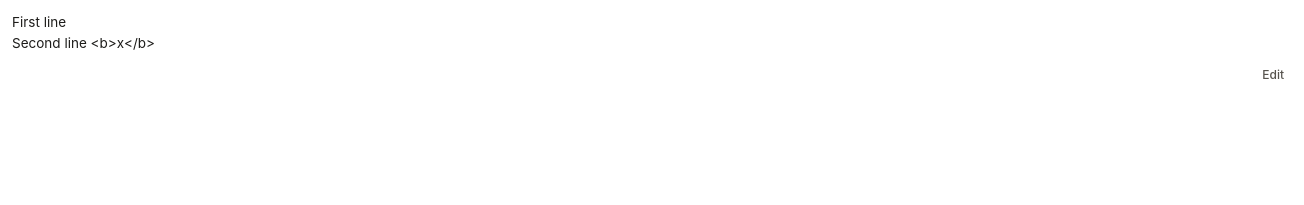
TextAreaEditor: edit mode › Edit opens the editor; Ctrl+Enter saves and focus returns to Edit
Click the button with aria-label "Edit Description" at coordinates (1273, 75), box 1254,62 -> 1292,88
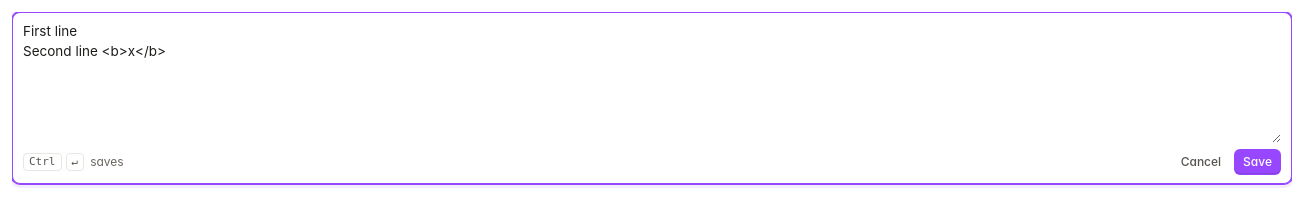
Replace the text in the text box named "Description" with "New text" at coordinates (652, 82), box 23,21 -> 1281,142
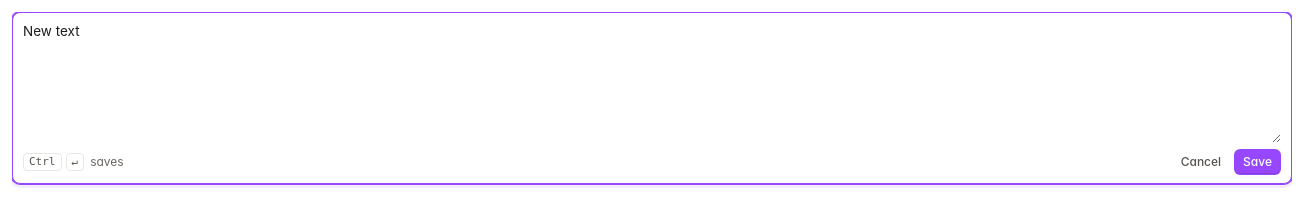
Press Enter in the text box named "Description", box 23,21 -> 1281,142
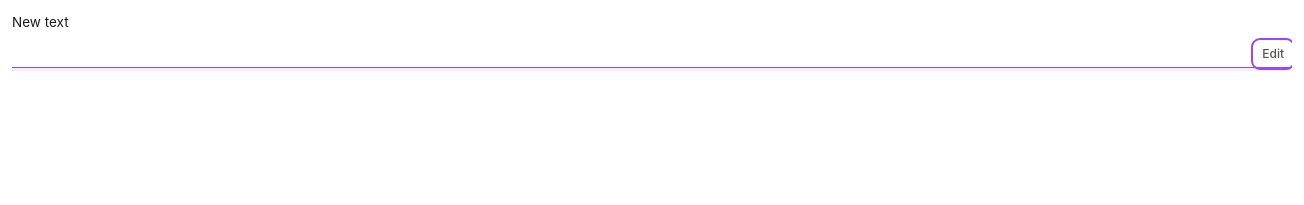
expect the text "New text" is shown: met, box 12,14 -> 68,30
